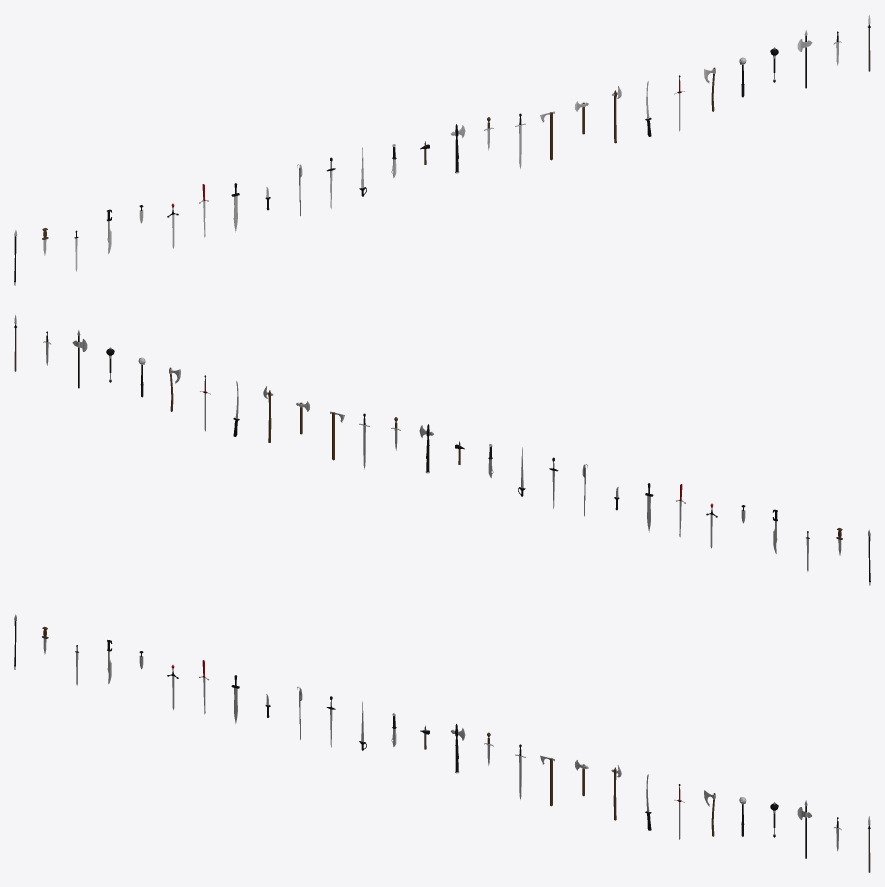
Rendered from melee weapons.fbx.
3 renders of one model, top to bottom at view 1: azimuth 30°, elevation 25°; view 2: azimuth 150°, elevation 25°; view 3: azimuth 330°, elevation 25°, orthographic.
Size of the model in its own units: 27.09 by 2.16 by 0.2381.
